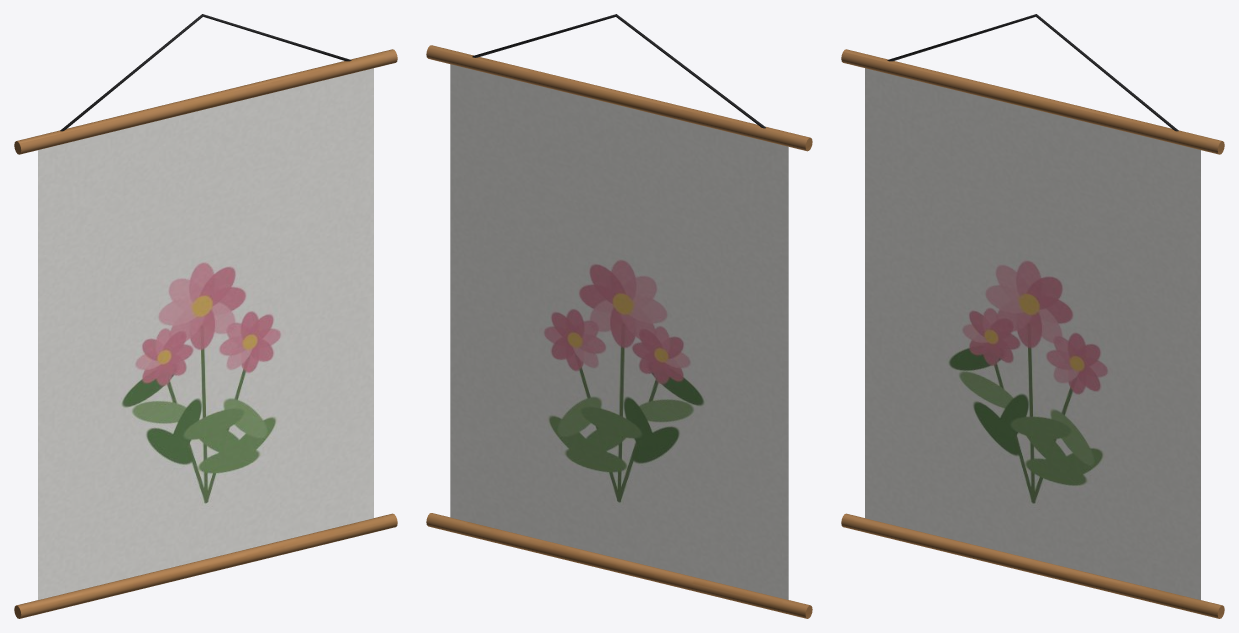
Rendered from picture_frame_botanical.glb.
3 renders of one model, left to right at view 1: azimuth 30°, elevation 25°; view 2: azimuth 150°, elevation 25°; view 3: azimuth 330°, elevation 25°, orthographic.
Visible parts, largest first — view 1: picture_frame_botanical_art, picture_frame_botanical_rods, picture_frame_botanical_string; view 2: picture_frame_botanical_art, picture_frame_botanical_rods, picture_frame_botanical_string; view 3: picture_frame_botanical_art, picture_frame_botanical_rods, picture_frame_botanical_string.
Part boxes in pixels (x1,y1,x2,y2): picture_frame_botanical_art: [38, 68, 373, 599]; picture_frame_botanical_rods: [14, 49, 397, 618]; picture_frame_botanical_string: [60, 14, 351, 131]; picture_frame_botanical_art: [450, 64, 788, 599]; picture_frame_botanical_rods: [426, 45, 812, 618]; picture_frame_botanical_string: [472, 14, 765, 128]; picture_frame_botanical_art: [865, 68, 1200, 599]; picture_frame_botanical_rods: [841, 49, 1224, 618]; picture_frame_botanical_string: [887, 14, 1178, 131].
Bounding box in the file's own units: 0.56 × 0.7909 × 0.0186.
Materials: 3 (2 with a texture image).
